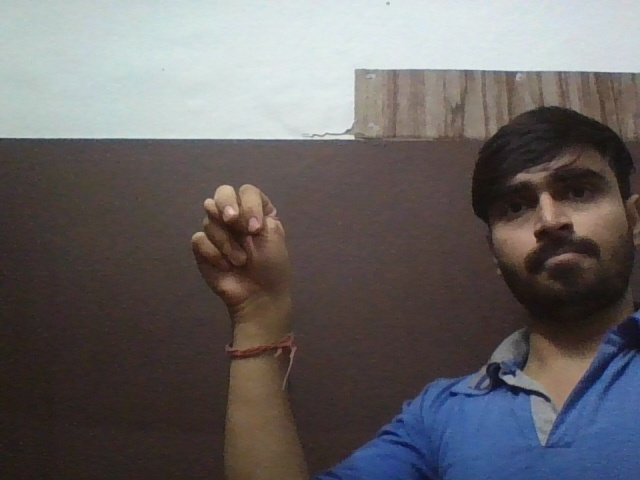N: (184, 181, 308, 333)
